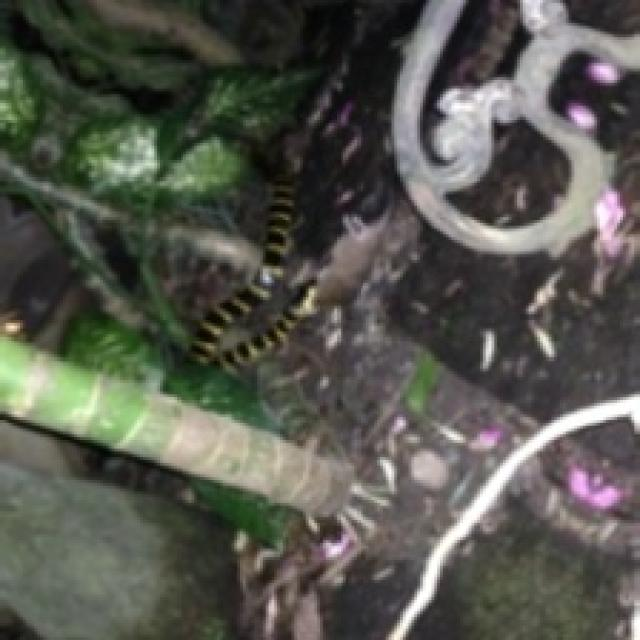mangrove cat snake: (191, 176, 314, 368)
